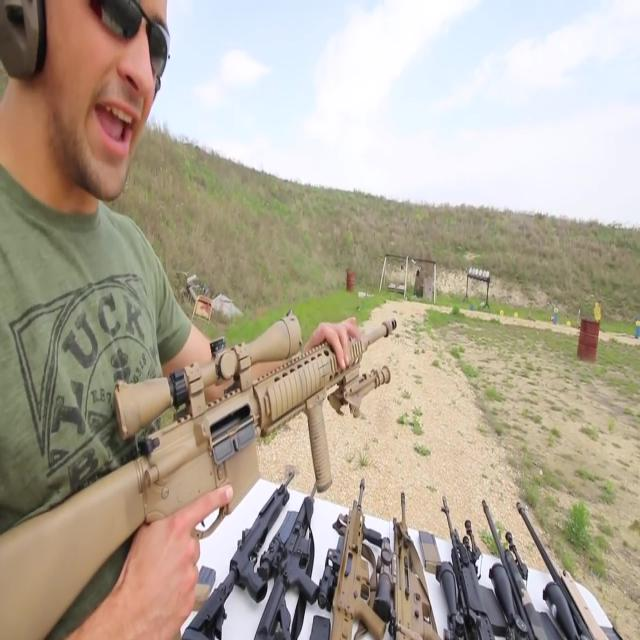Weapon: (0, 296, 432, 570), (124, 417, 640, 640)
